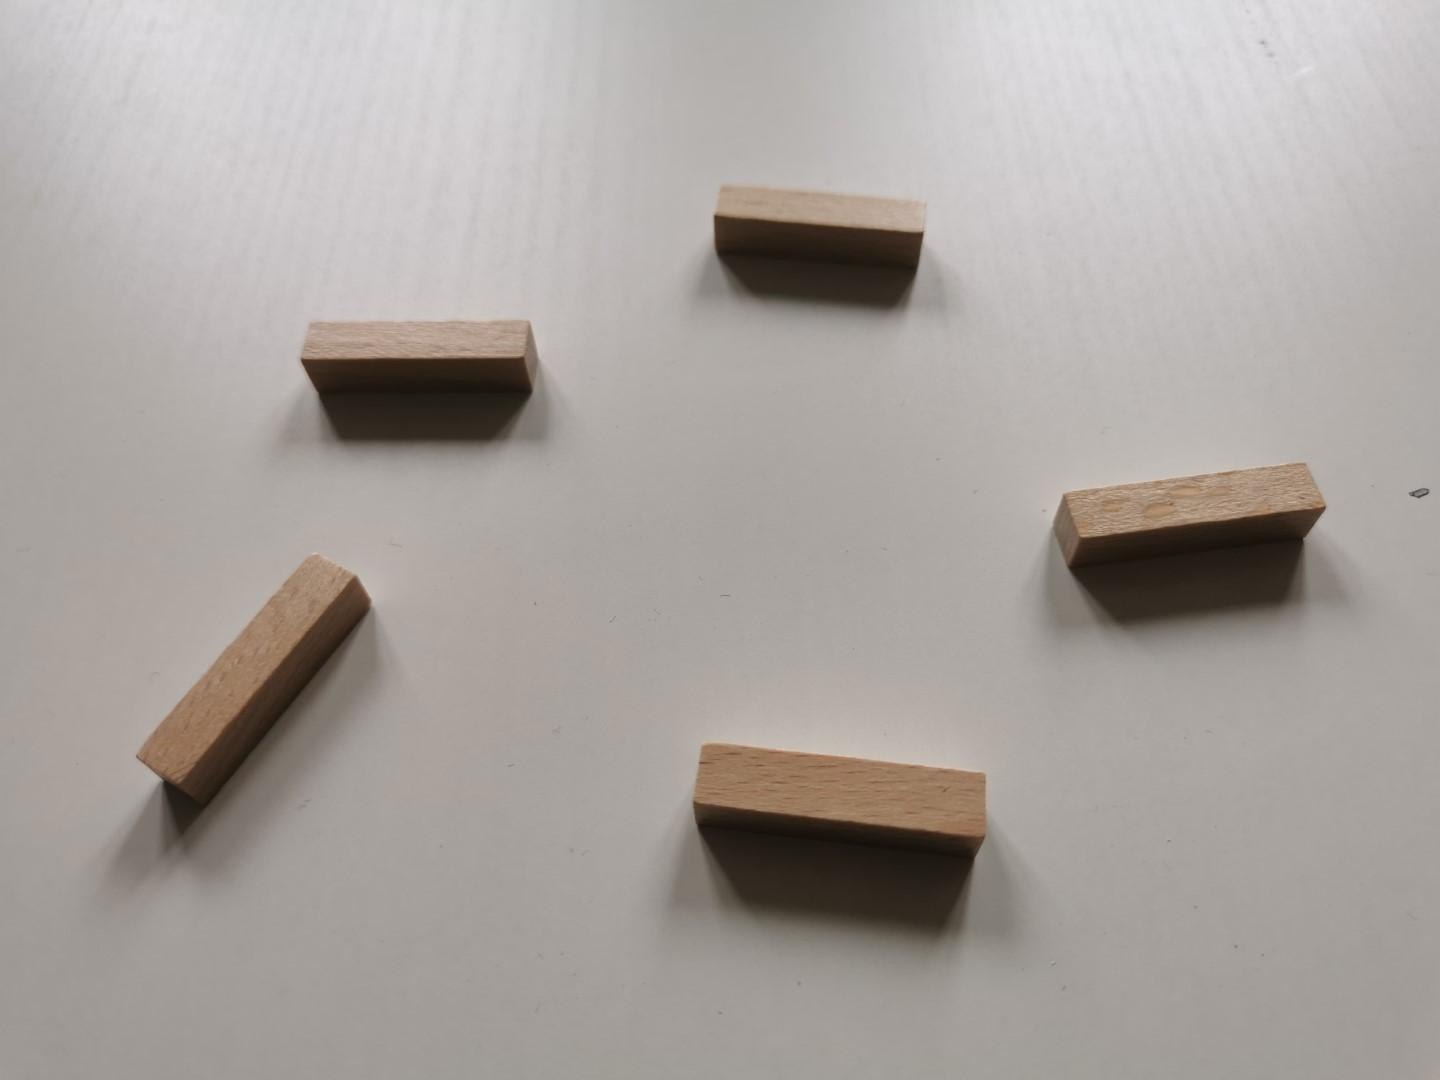jenga: (136, 554, 369, 805), (694, 744, 986, 858), (1056, 462, 1328, 566), (715, 184, 927, 267), (300, 319, 537, 393)
